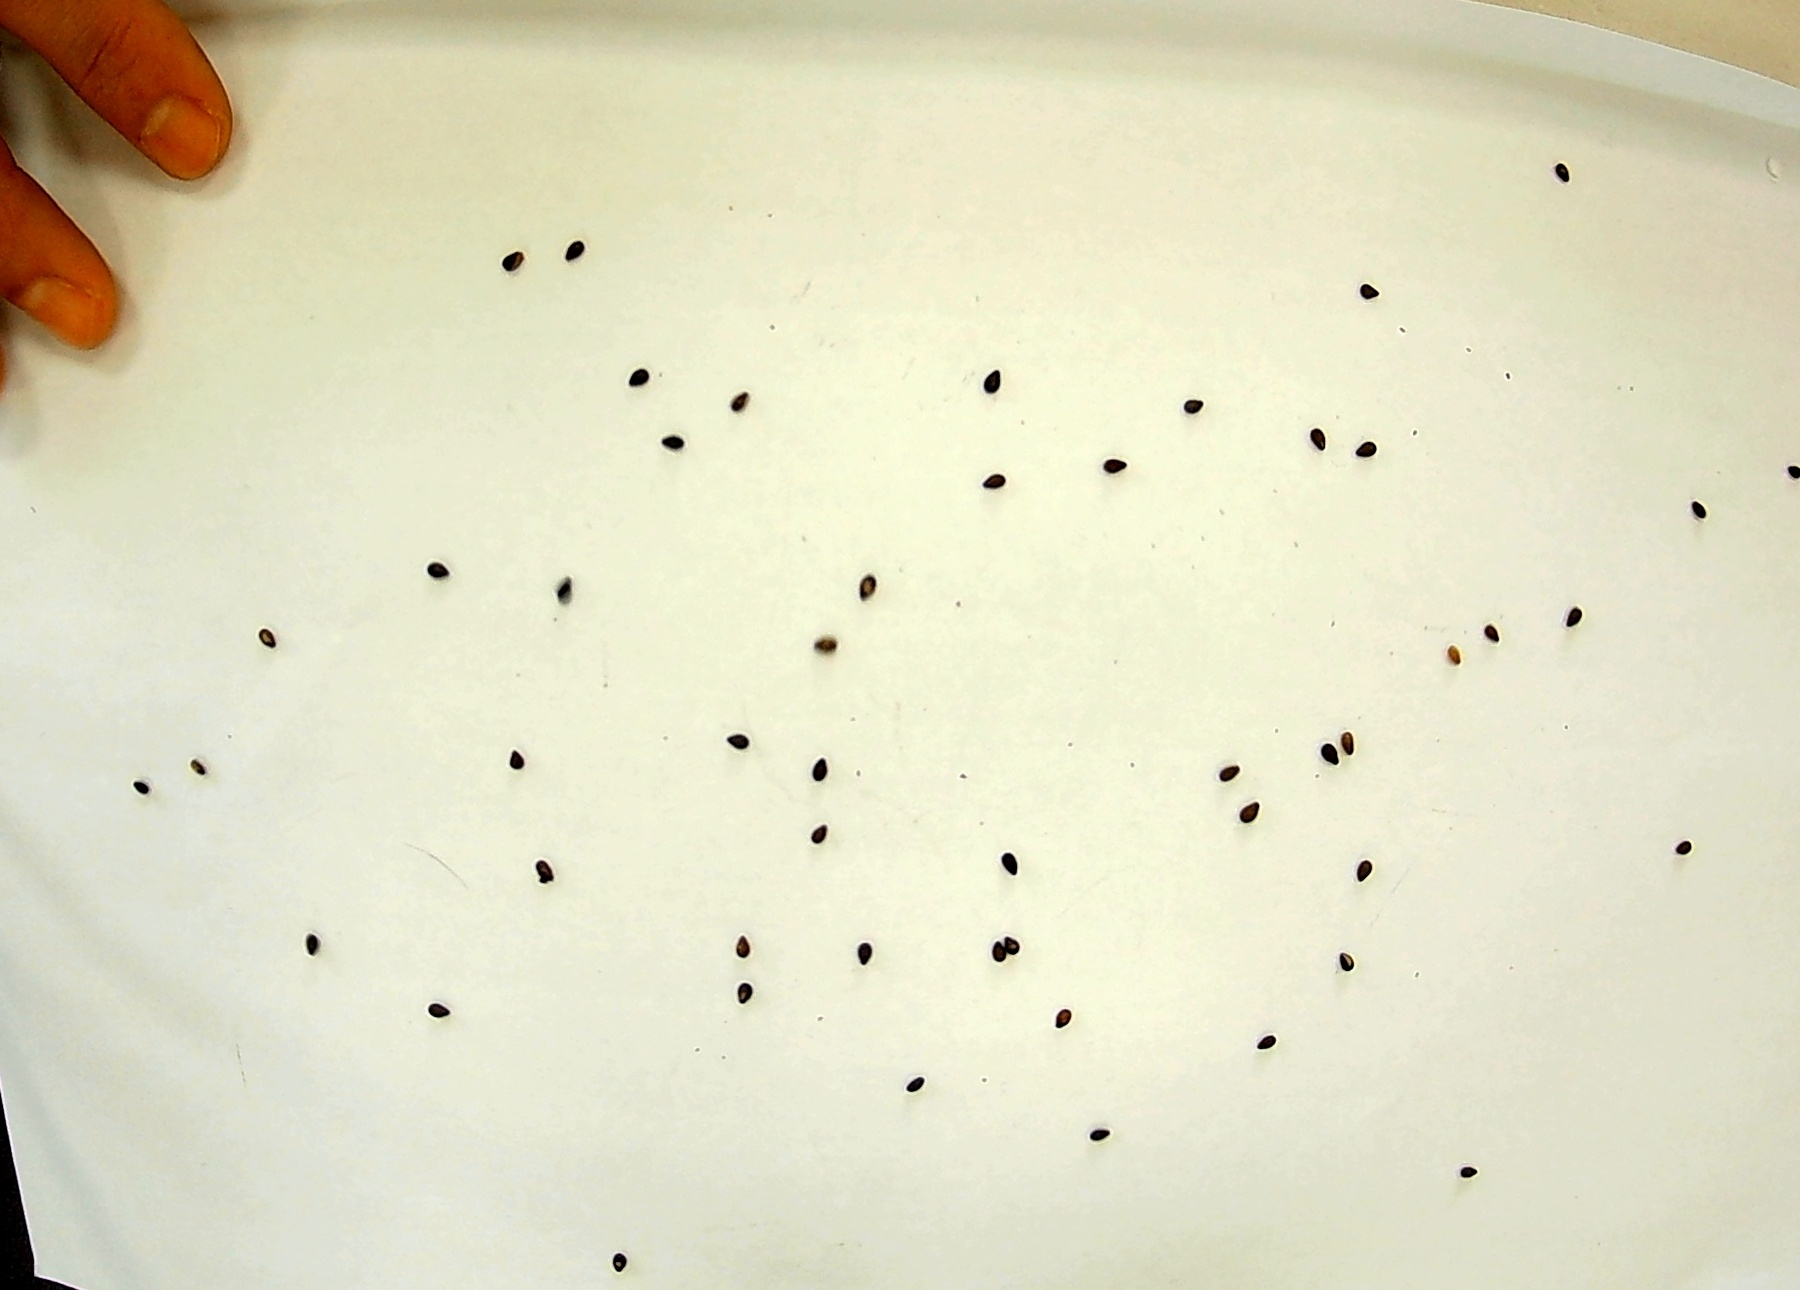sesami: (543, 565, 582, 611), (719, 385, 758, 431), (970, 362, 1009, 408), (964, 458, 1003, 504), (1091, 443, 1130, 489), (1167, 384, 1206, 430), (1310, 408, 1349, 454), (1349, 438, 1388, 484), (1345, 269, 1384, 316), (1543, 149, 1582, 195), (1761, 438, 1800, 484), (1676, 491, 1715, 537), (1554, 588, 1593, 634), (1469, 614, 1508, 660), (1430, 641, 1469, 687), (1665, 822, 1704, 868), (1342, 726, 1381, 772), (1199, 750, 1238, 796), (1227, 787, 1266, 833), (1353, 845, 1393, 891), (1331, 923, 1370, 969), (1457, 1157, 1496, 1203), (1246, 1028, 1285, 1074), (1081, 1114, 1120, 1160), (1047, 1000, 1086, 1046), (1005, 919, 1044, 965), (966, 923, 1005, 969), (1007, 835, 1047, 881), (843, 926, 882, 972), (892, 1069, 931, 1115), (597, 1244, 636, 1290), (719, 967, 758, 1014), (727, 914, 766, 961), (805, 815, 844, 861), (809, 766, 848, 813), (716, 713, 755, 759), (846, 577, 885, 623), (421, 550, 460, 596), (615, 350, 654, 396), (553, 221, 592, 267), (507, 235, 546, 281), (493, 732, 532, 778), (515, 850, 554, 896), (419, 988, 458, 1035), (297, 919, 336, 965), (180, 743, 219, 789), (127, 752, 166, 799), (241, 616, 280, 662), (652, 415, 691, 459), (797, 623, 836, 667), (1298, 725, 1335, 771)
